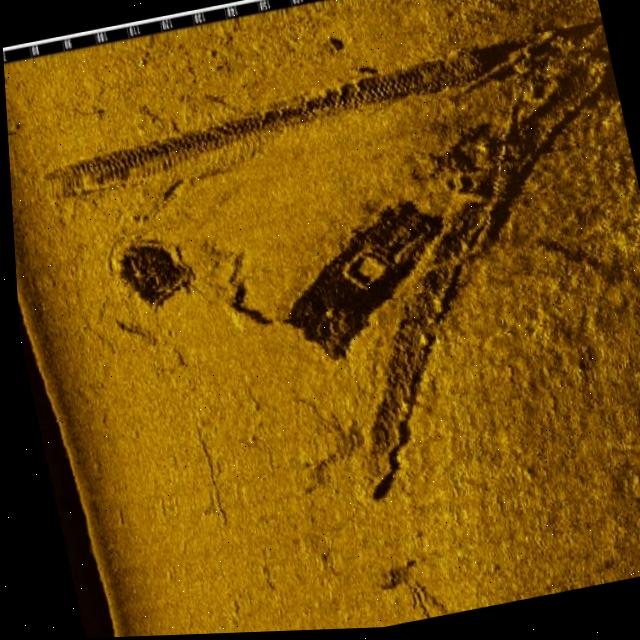shipwreck: (294, 152, 561, 502), (23, 53, 509, 206), (264, 196, 463, 374)
